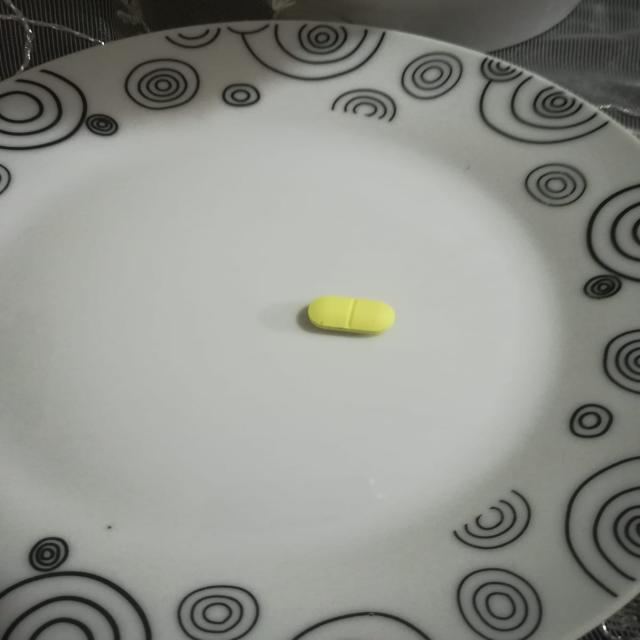pills: (288, 284, 406, 348)
